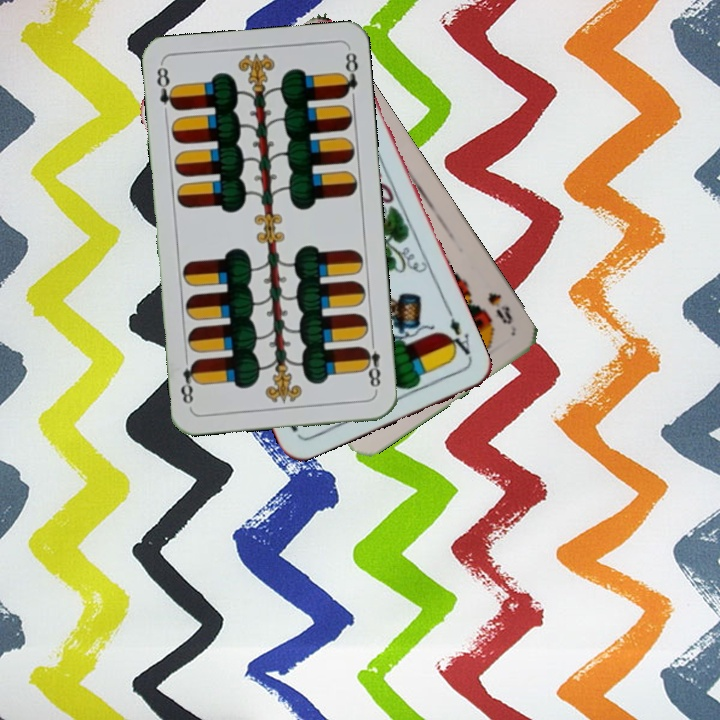E8: (358, 335, 383, 394), (152, 61, 180, 113)
EA: (441, 306, 474, 362)
S8: (483, 288, 516, 327)
